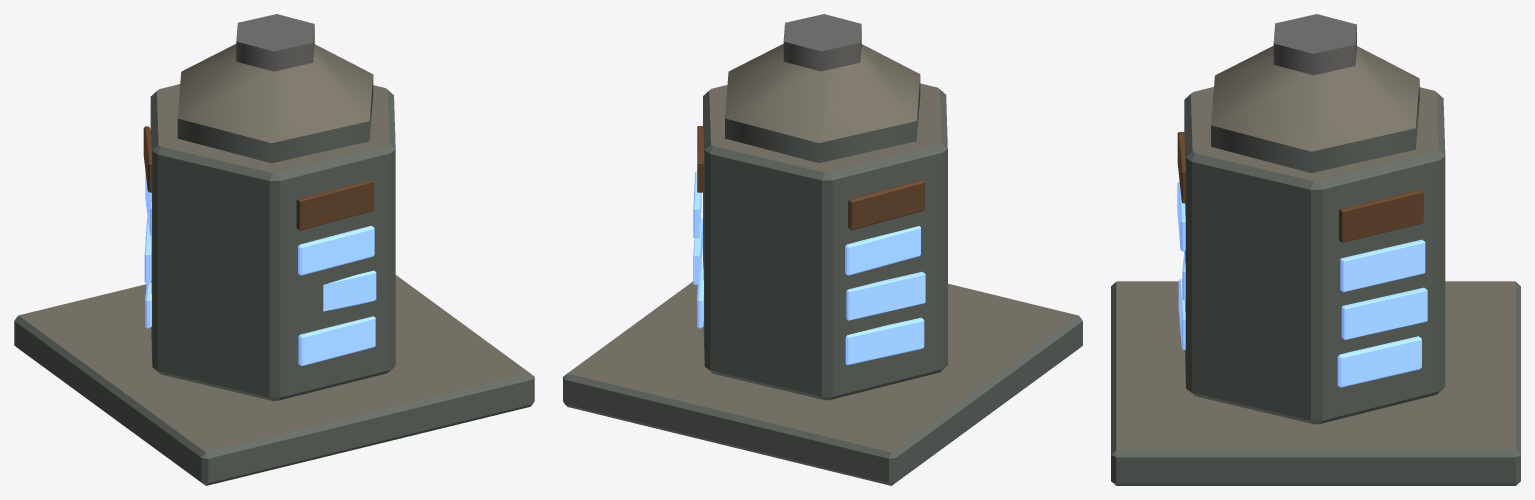
Rendered from R4X_ChargeCapacity_LOD1.fbx.
The picture shows the model from 3 angles, left to right: view 1: azimuth 30°, elevation 25°; view 2: azimuth 150°, elevation 25°; view 3: azimuth 270°, elevation 25°; orthographic projection. The views are drawn at different scales.
Parts seen in each view (by area): view 1: R4X_ChargeCapacity_LOD1; view 2: R4X_ChargeCapacity_LOD1; view 3: R4X_ChargeCapacity_LOD1.
Part boxes in pixels (box(x1,y1,x2,y2)): R4X_ChargeCapacity_LOD1: box(14, 14, 534, 485); R4X_ChargeCapacity_LOD1: box(563, 14, 1082, 485); R4X_ChargeCapacity_LOD1: box(1111, 14, 1520, 485).
Size of the model in its own units: 0.52 by 0.515 by 0.52.
